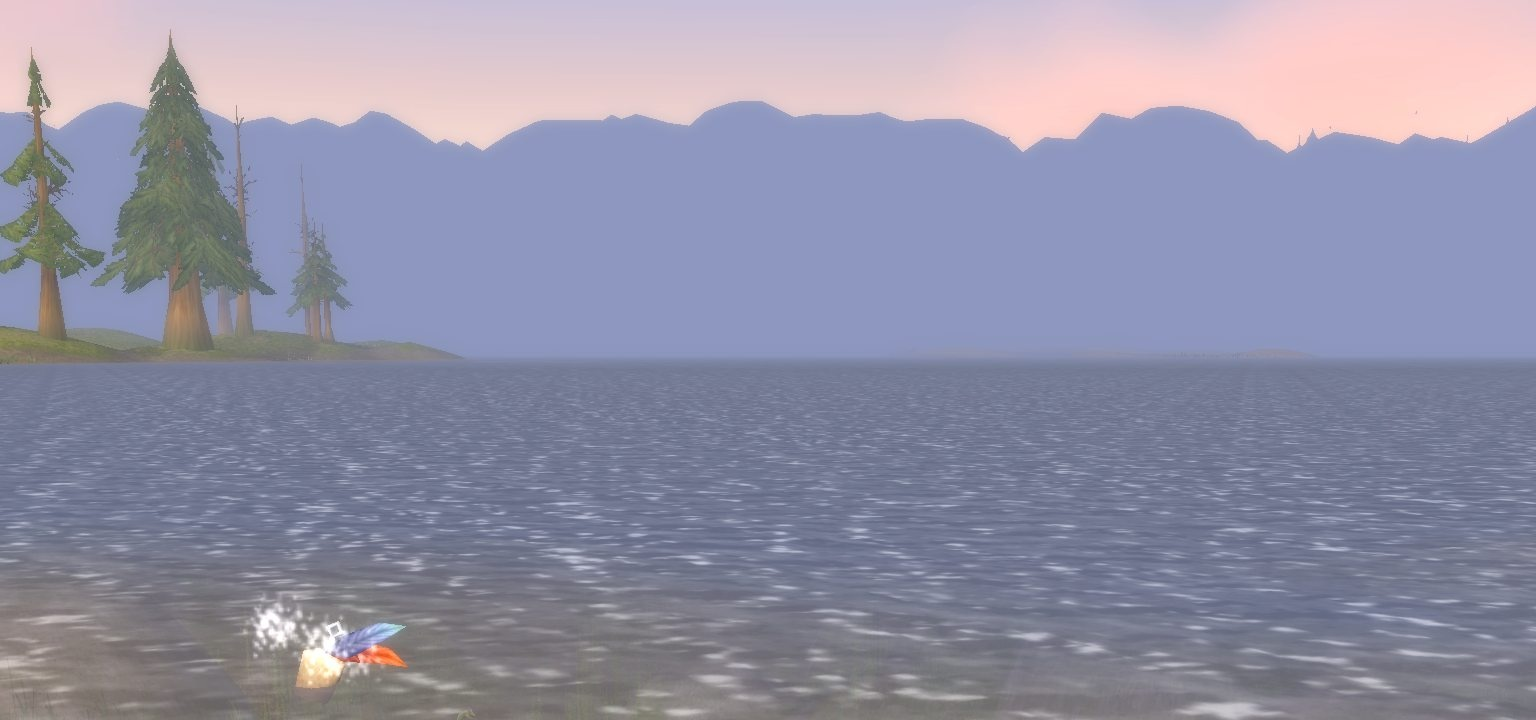Splash: (292, 621, 408, 688)
